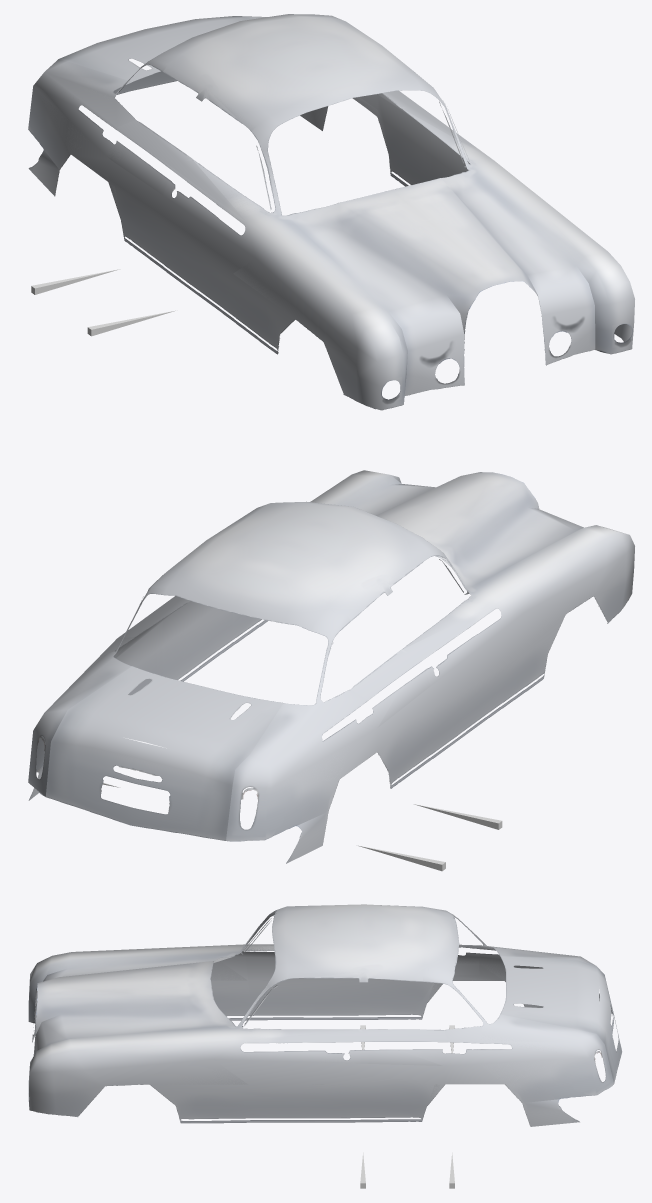
File: Phantom.FBX
3 views of the same model, one above another, from view 1: azimuth 30°, elevation 25°; view 2: azimuth 150°, elevation 25°; view 3: azimuth 270°, elevation 25° (orthographic). The views are drawn at different scales.
Visible parts, largest first — view 1: Phantom2BodyWindowed, Phantom3BodyDoorCut, Phantom1BodyLores, DoorBL, DoorBR, DoorL, DoorR; view 2: Phantom2BodyWindowed, Phantom3BodyDoorCut, DoorL, Phantom1BodyLores, DoorBL, DoorR, DoorBR; view 3: Phantom2BodyWindowed, Phantom3BodyDoorCut, DoorR, DoorBR, Phantom1BodyLores, DoorL, DoorBL.
Part boxes in pixels (box(x1,y1,x2,y2)): Phantom2BodyWindowed: box(28, 14, 634, 410); Phantom3BodyDoorCut: box(34, 14, 634, 363); Phantom1BodyLores: box(117, 90, 493, 220); DoorBL: box(360, 93, 425, 184); DoorBR: box(96, 66, 198, 190); DoorL: box(430, 101, 469, 180); DoorR: box(163, 168, 270, 242); Phantom2BodyWindowed: box(28, 470, 634, 863); Phantom3BodyDoorCut: box(28, 475, 564, 827); DoorL: box(162, 601, 232, 679); Phantom1BodyLores: box(118, 595, 493, 698); DoorBL: box(114, 596, 186, 694); DoorR: box(403, 556, 493, 685); DoorBR: box(332, 592, 424, 739); Phantom2BodyWindowed: box(28, 904, 613, 1126); Phantom3BodyDoorCut: box(28, 910, 622, 1124); DoorR: box(240, 915, 360, 1015); DoorBR: box(369, 933, 482, 1015); Phantom1BodyLores: box(243, 944, 447, 1039); DoorL: box(242, 985, 360, 1084); DoorBL: box(368, 978, 479, 1065).
Size of what is drawn, in the model's own units: 326 by 180 by 544.
